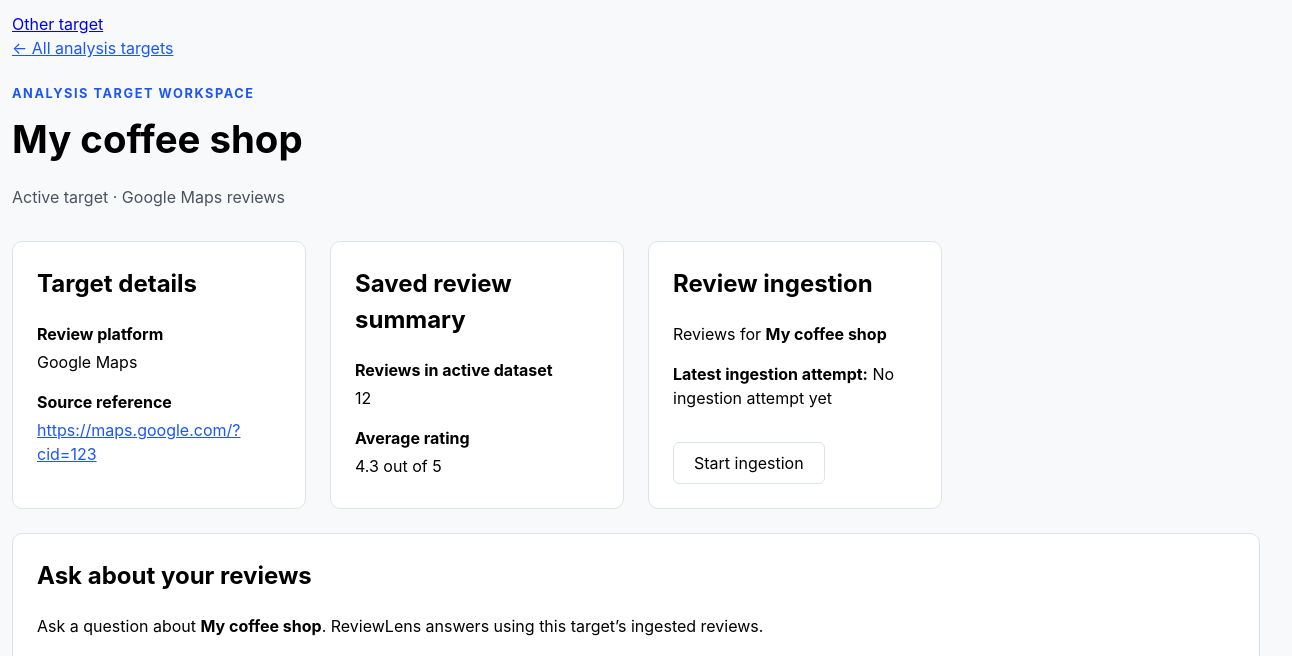
Test: TargetWorkspacePage › reports a failed PROVIDER_ERROR run safely after HTTP 201
expect the text "Latest ingestion attempt: No ingestion attempt yet" is shown: met, box [673,362,917,410]
Click the button "Start ingestion" at [749, 463], box [673,442,825,484]
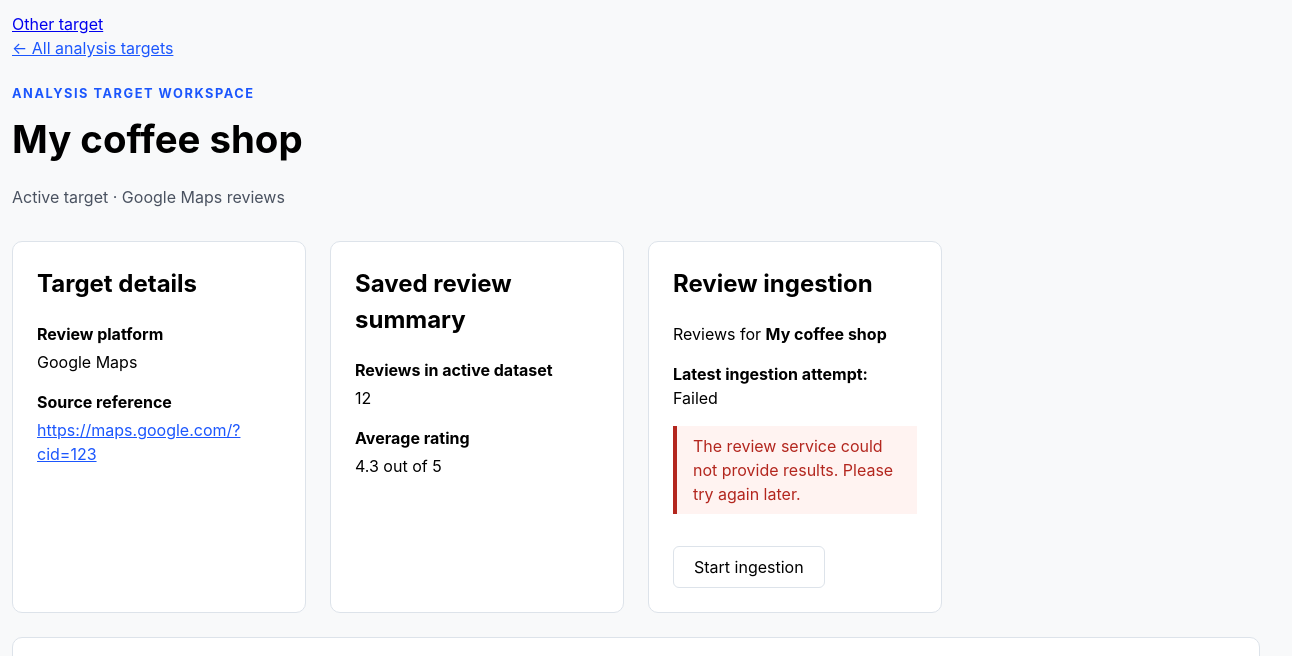
expect the message shows "The review service could not provide results.": met, box [693,436,893,504]
expect the message shows "try again": met, box [693,436,893,504]
expect the text "Failed" is shown: met, box [673,388,718,408]
